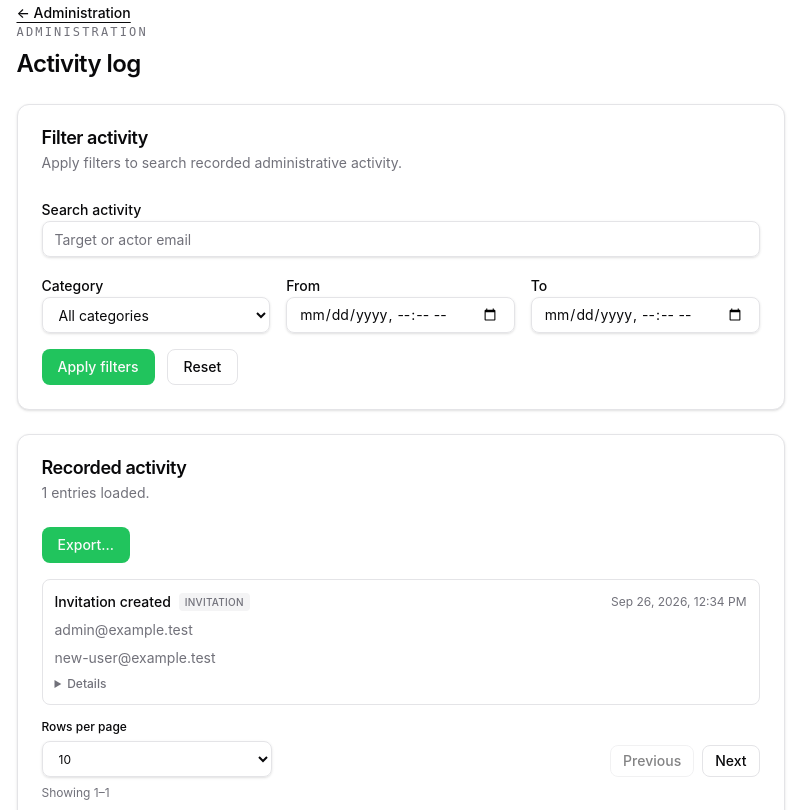
Test: AdminActivityPage › clears filters and reloads the first page when reset is selected
The width and height of the screenshot is (802, 810).
Expected: the text "Invitation created" is shown, [54,592,171,612]
Type "admin@example.test" into the search field labelled "Search activity" at (400, 239), box [42,221,760,257]
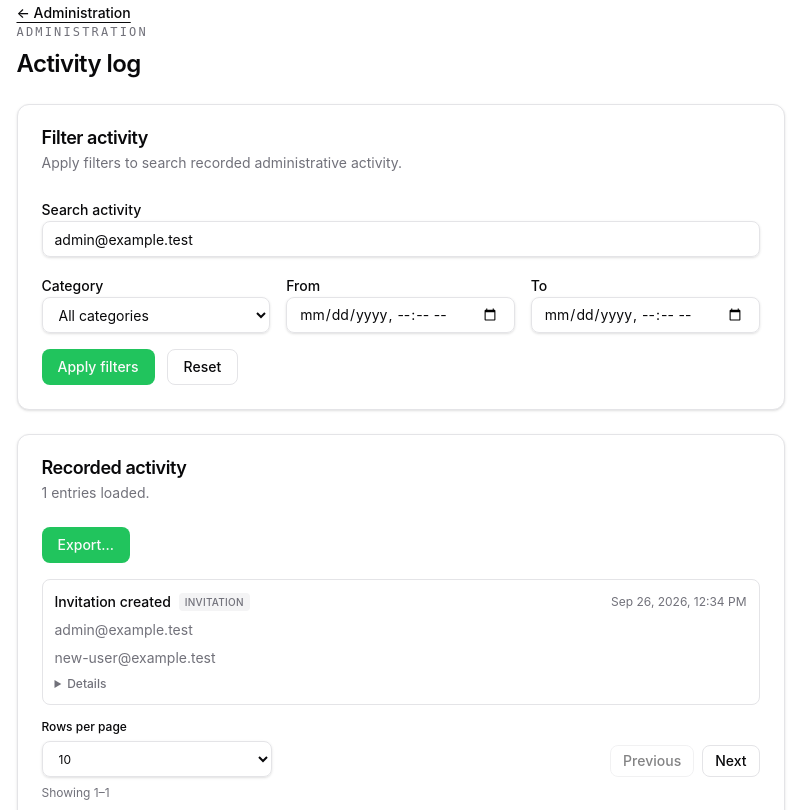
Submit the form "Apply filters", box [42,197,760,385]
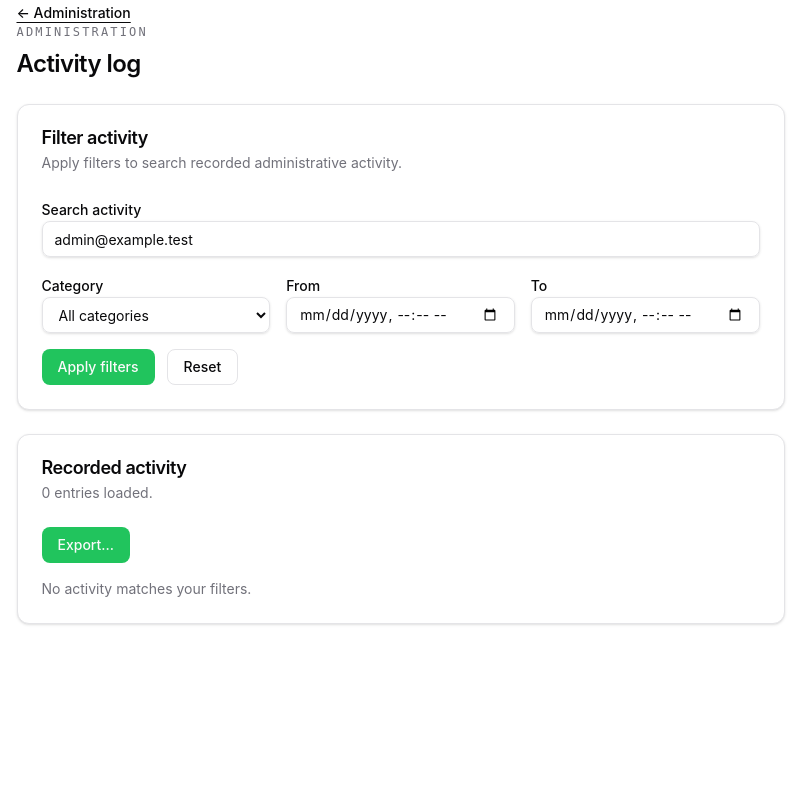
Expected: the text "No activity matches your filters." is shown, [42,580,251,597]
Click the button "Reset" at (202, 367), box [167,349,238,385]
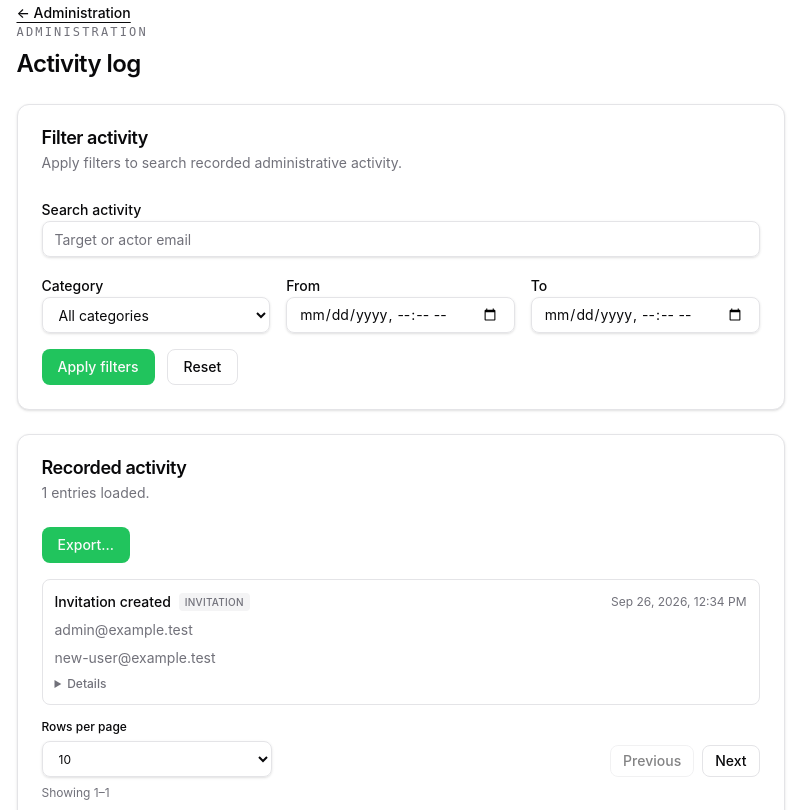
Expected: the dropdown labelled "Category" shows "All categories", [42,297,270,333]
Expected: the text "Invitation created" is shown, [54,592,171,612]
Expected: the search field labelled "Search activity" is empty, [42,221,760,257]
